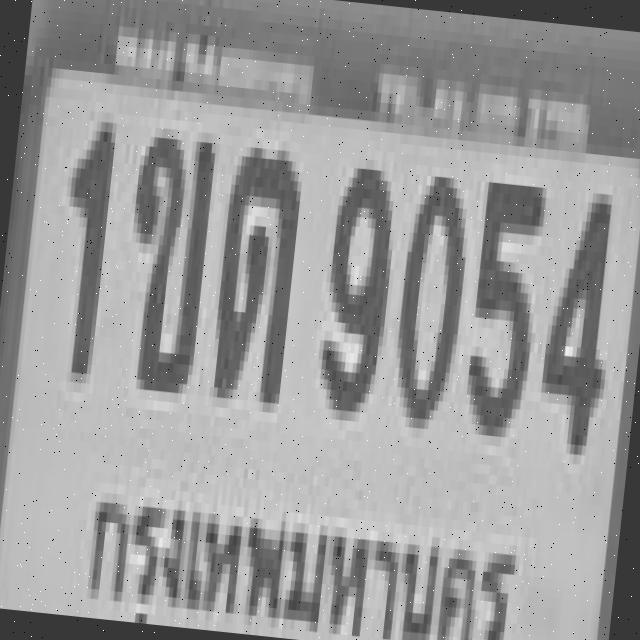0: (386, 164, 470, 420)
1: (48, 109, 114, 374)
11KhorKhai: (114, 116, 214, 384)
30TorTao: (205, 135, 302, 403)
4: (532, 179, 616, 446)
5: (459, 172, 544, 428)
9: (313, 156, 397, 413)
Bangkok: (68, 461, 539, 640)
